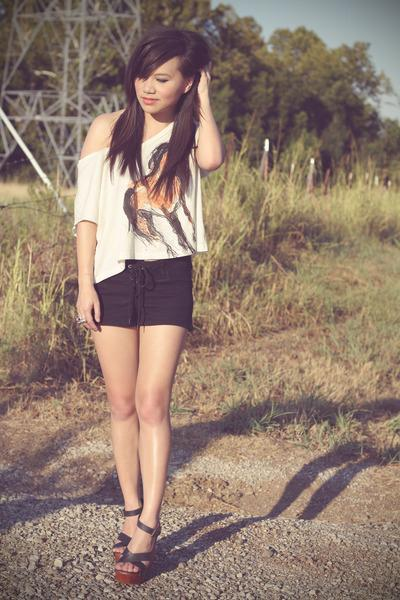shirt: (74, 119, 220, 282)
shoe: (113, 522, 178, 594)
shorts: (91, 255, 199, 347)
